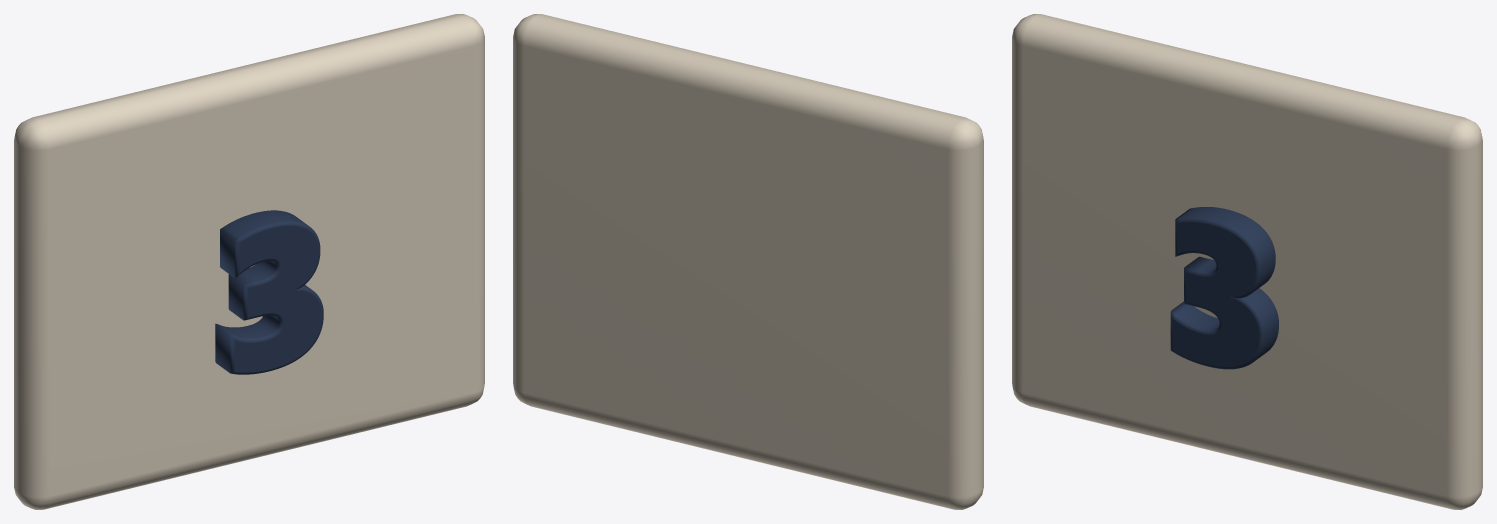
Rendered from BufferTag3.fbx.
The picture shows the model from 3 angles, left to right: view 1: azimuth 30°, elevation 25°; view 2: azimuth 150°, elevation 25°; view 3: azimuth 330°, elevation 25°; orthographic projection.
Visible parts, largest first — view 1: BufferTag3 mesh; view 2: BufferTag3 mesh; view 3: BufferTag3 mesh.
Part boxes in pixels (bbox=[...]): BufferTag3 mesh: bbox=[14, 14, 484, 509]; BufferTag3 mesh: bbox=[513, 14, 983, 509]; BufferTag3 mesh: bbox=[1012, 14, 1482, 509].
Bounding box in the file's own units: 0.15 × 0.12 × 0.024.
